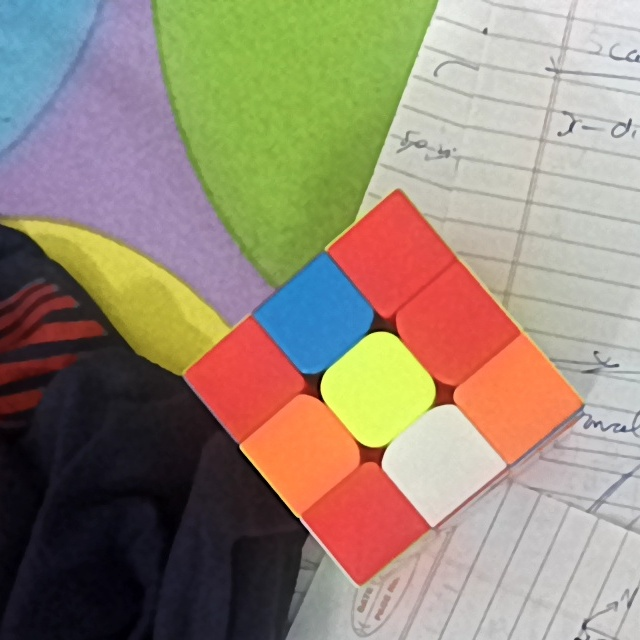tile: (484, 364, 549, 433), (361, 218, 427, 281), (271, 422, 335, 486), (331, 495, 397, 557), (407, 431, 471, 494), (349, 355, 414, 415), (213, 352, 274, 413), (425, 295, 485, 356), (281, 292, 347, 347)
